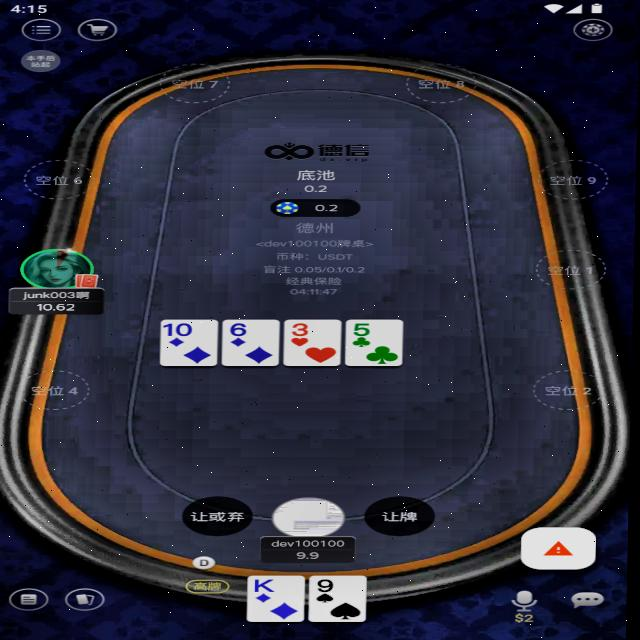10f: (163, 321, 195, 338)
3h: (291, 320, 313, 338)
5m: (352, 321, 375, 337)
6f: (228, 320, 251, 338)
9s: (316, 577, 339, 595)
Kf: (254, 578, 281, 594)
